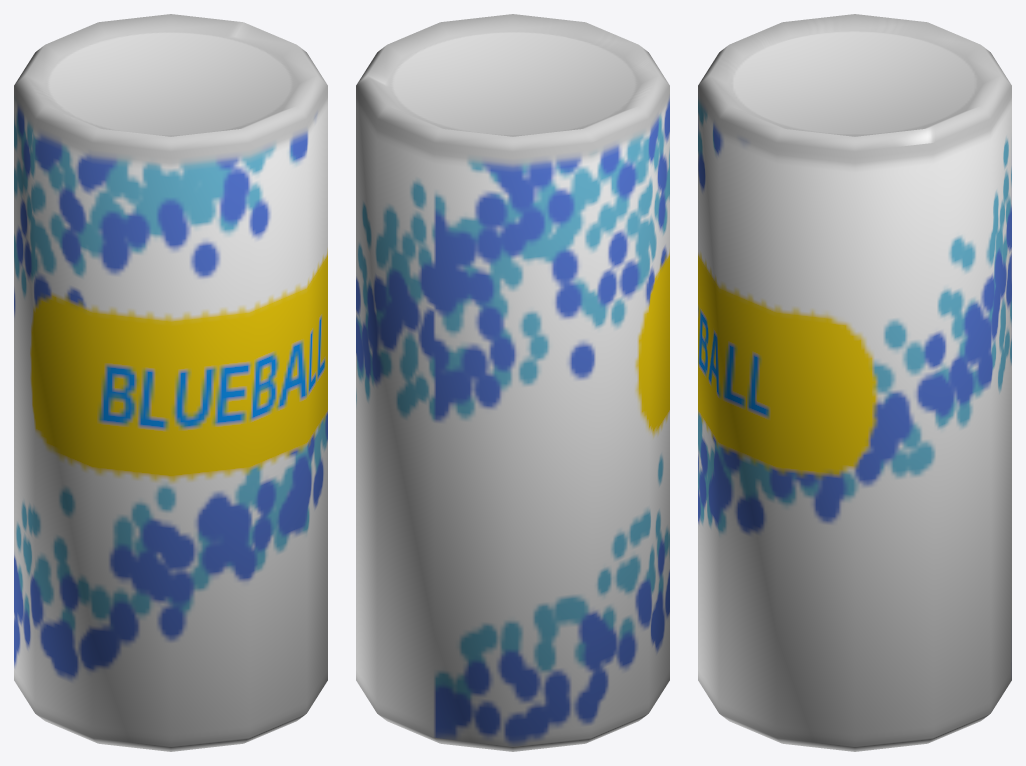
Rendered from Redbull.glb.
3 renders of one model, left to right at view 1: azimuth 30°, elevation 25°; view 2: azimuth 150°, elevation 25°; view 3: azimuth 270°, elevation 25°, orthographic.
Visible parts, largest first — view 1: Cylinder; view 2: Cylinder; view 3: Cylinder.
Boxes of the visible parts, box(x1,y1,x2,y2) form: Cylinder: box(14, 14, 327, 751); Cylinder: box(356, 14, 669, 751); Cylinder: box(698, 14, 1011, 751).
Size of the model in its own units: 1.04 by 2.25 by 1.04.
Materials: 1 (1 with a texture image).
